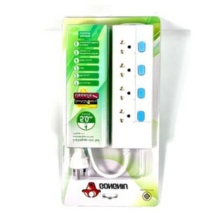book: (57, 12, 162, 211)
three_eye_plug: (107, 20, 156, 151)
